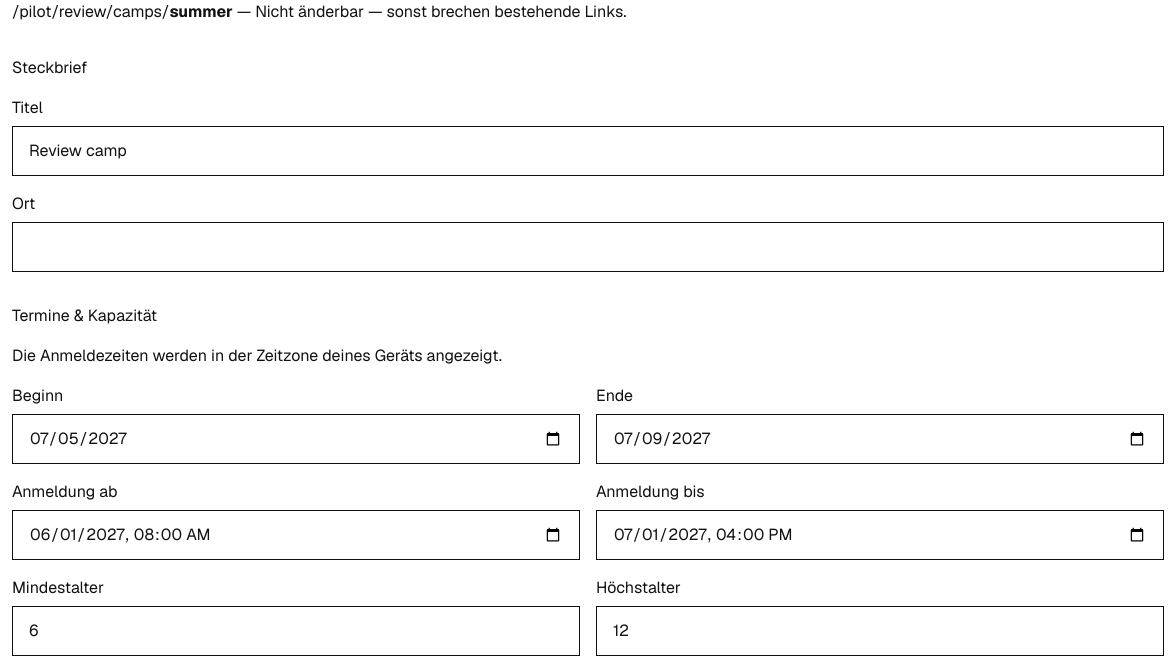
Scenario: keeps entered values when saving fails
Step 1. Replace the text in the field named "title" with "Changed title" → (588, 151), box x1=12 y1=126 x2=1164 y2=176
(page scrolled)
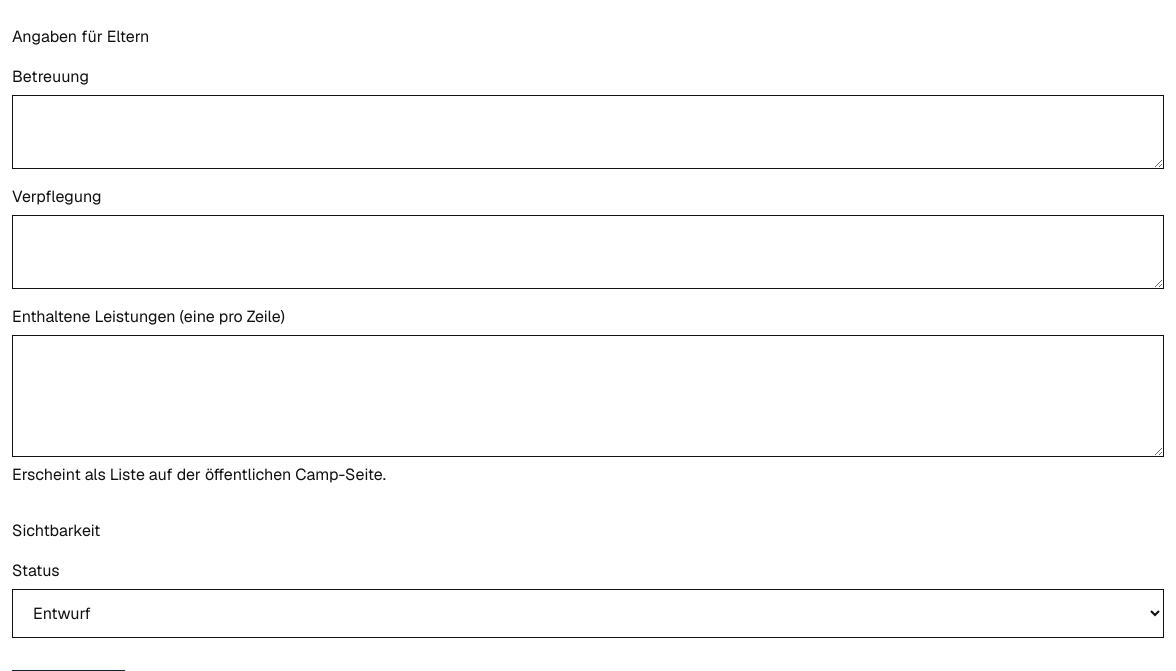
Step 2. Select "Veröffentlicht" in the dropdown named "status" → (588, 614), box x1=12 y1=589 x2=1164 y2=638
(page scrolled)
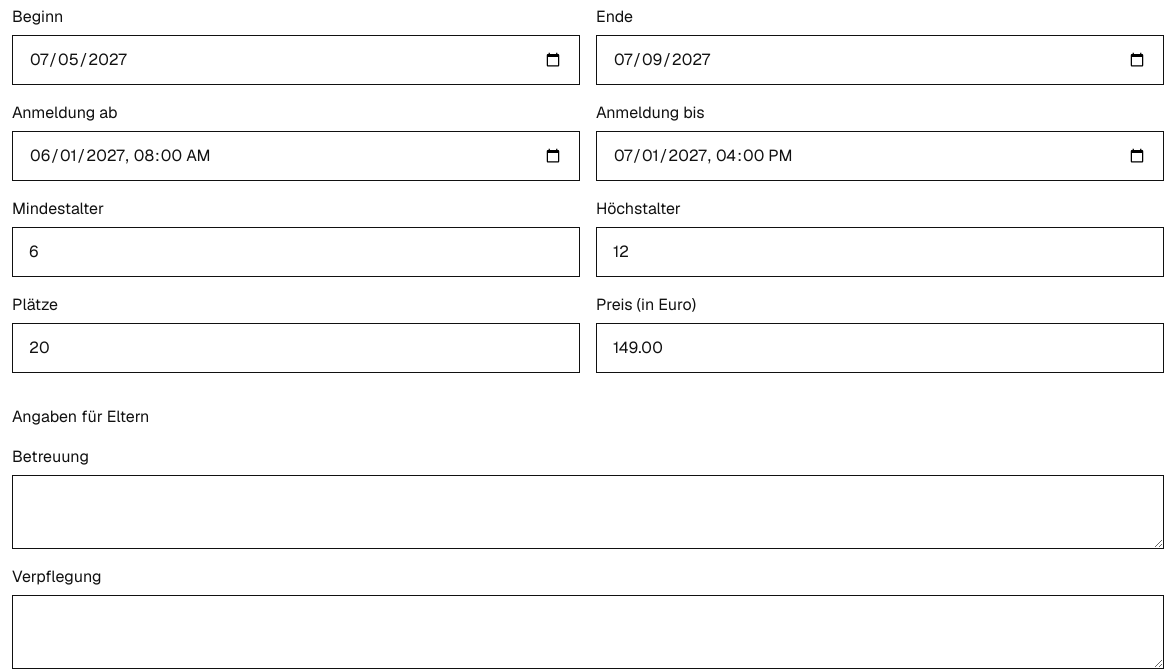
Step 3. Submit the form
(page scrolled)
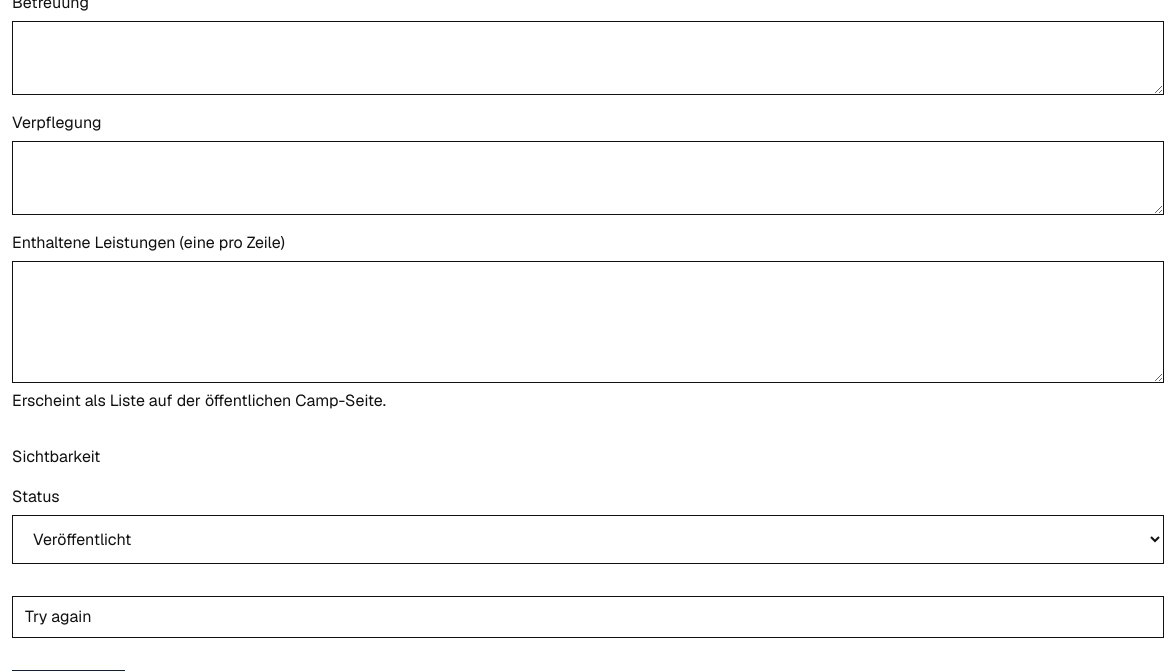
Expected: the dropdown named "status" shows "Veröffentlicht", x1=12 y1=515 x2=1164 y2=564
Expected: the text "Try again" is shown, x1=12 y1=596 x2=1164 y2=638
